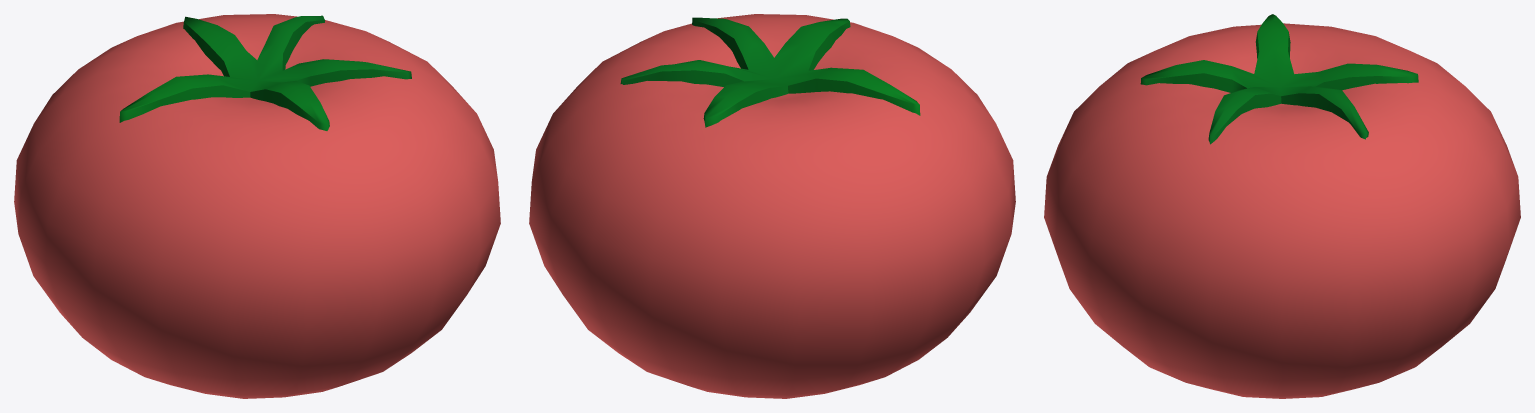
File: Tomato.fbx
3 renders of one model, left to right at view 1: azimuth 30°, elevation 25°; view 2: azimuth 150°, elevation 25°; view 3: azimuth 270°, elevation 25°, orthographic. The views are drawn at different scales.
Visible parts, largest first — view 1: Tomato; view 2: Tomato; view 3: Tomato.
Boxes of the visible parts, box(x1,y1,x2,y2) form: Tomato: box(14, 14, 500, 398); Tomato: box(529, 14, 1015, 398); Tomato: box(1044, 14, 1520, 398).
Bounding box in the file's own units: 11.92 × 8.34 × 11.91.
